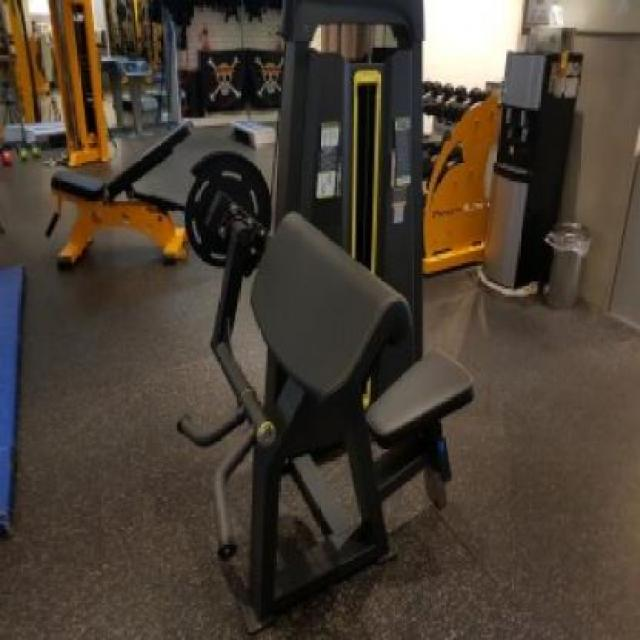arm curl machine: (174, 208, 477, 632)
